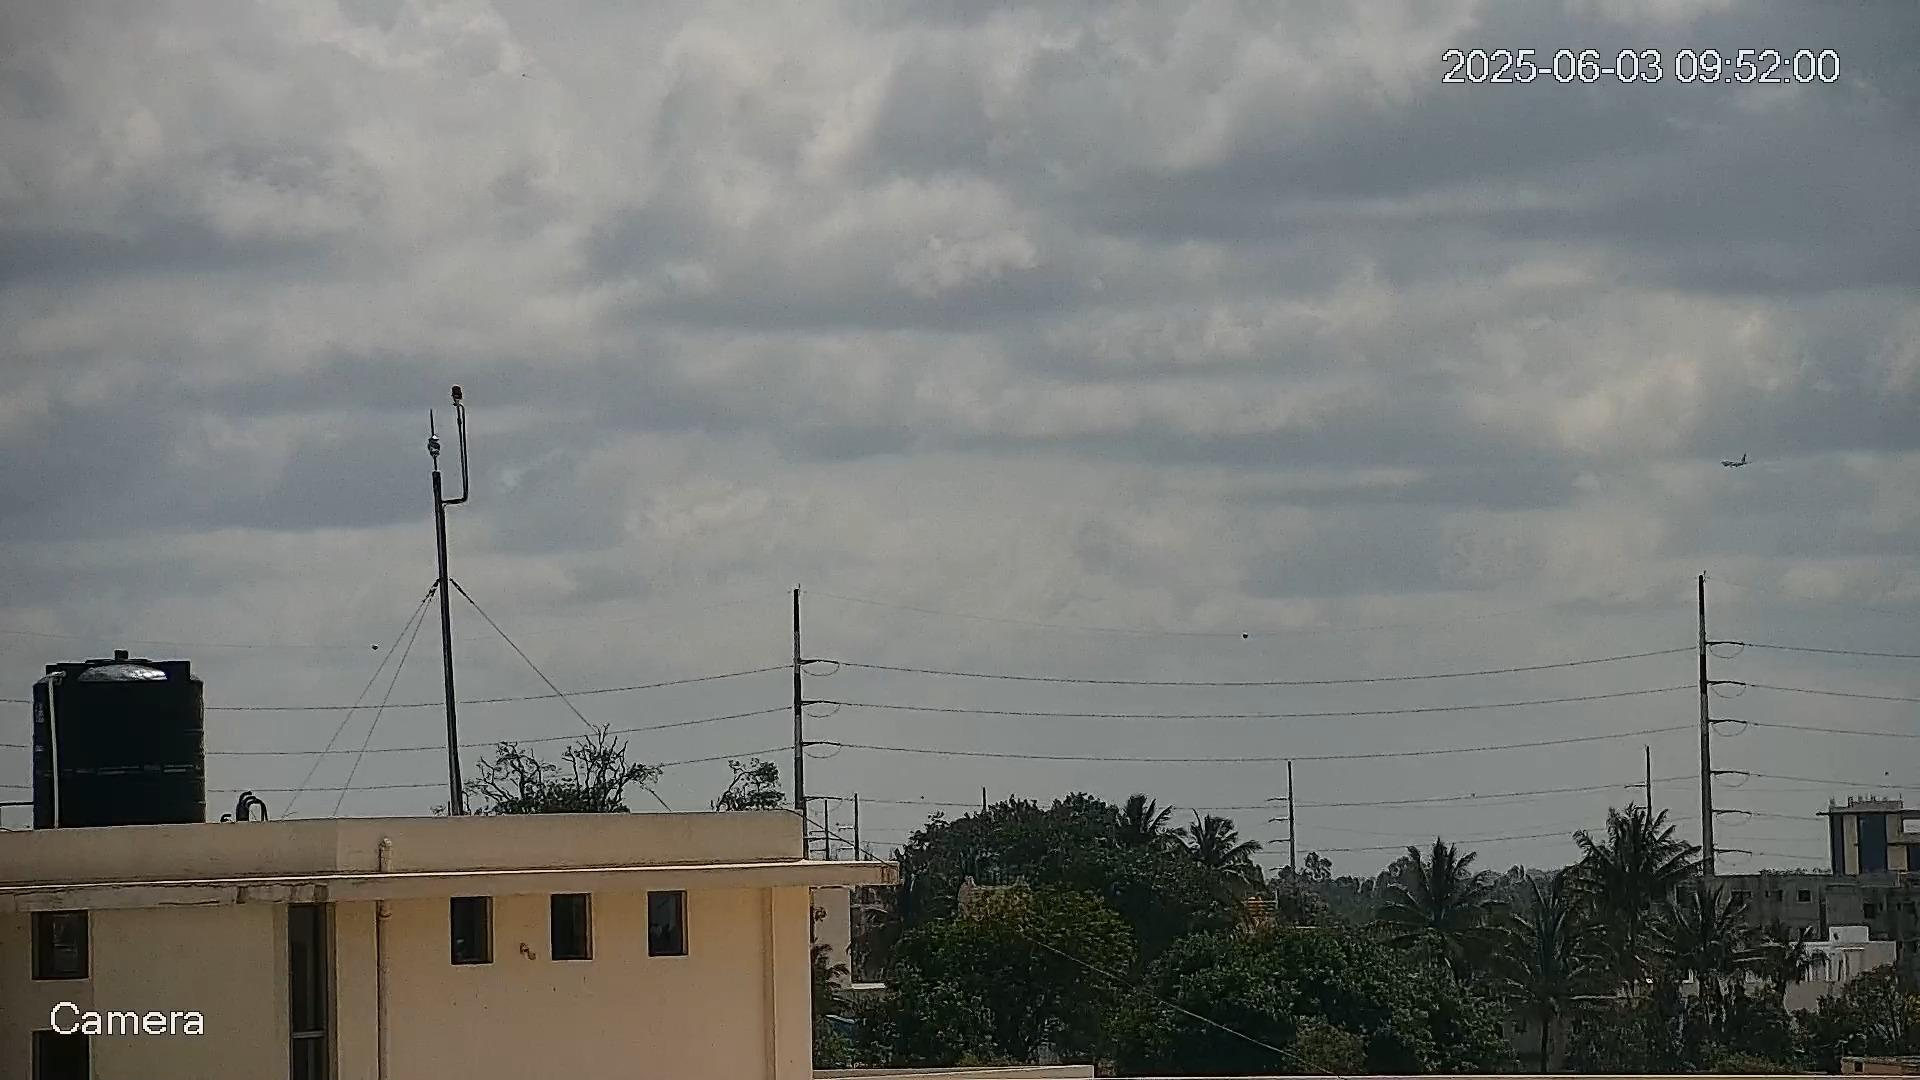Aircraft: (1721, 452, 1750, 468)
